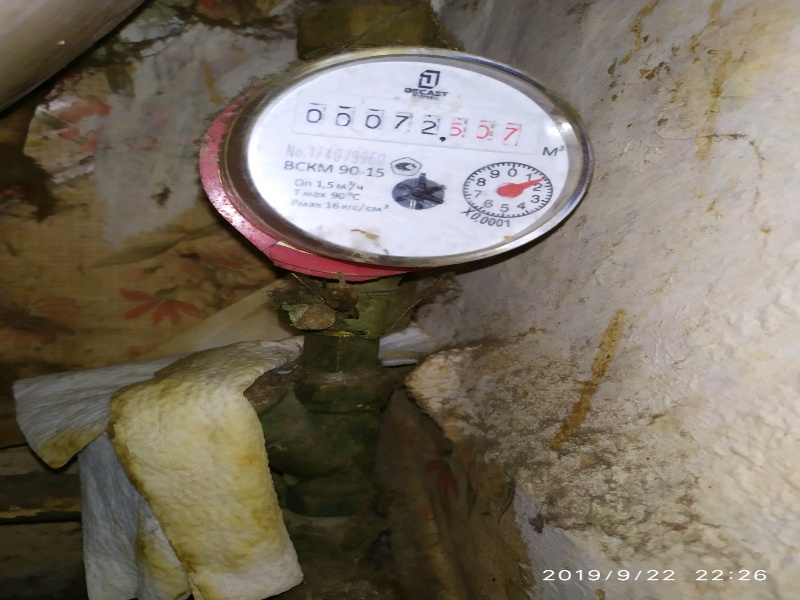meter: (305, 106, 534, 146)
